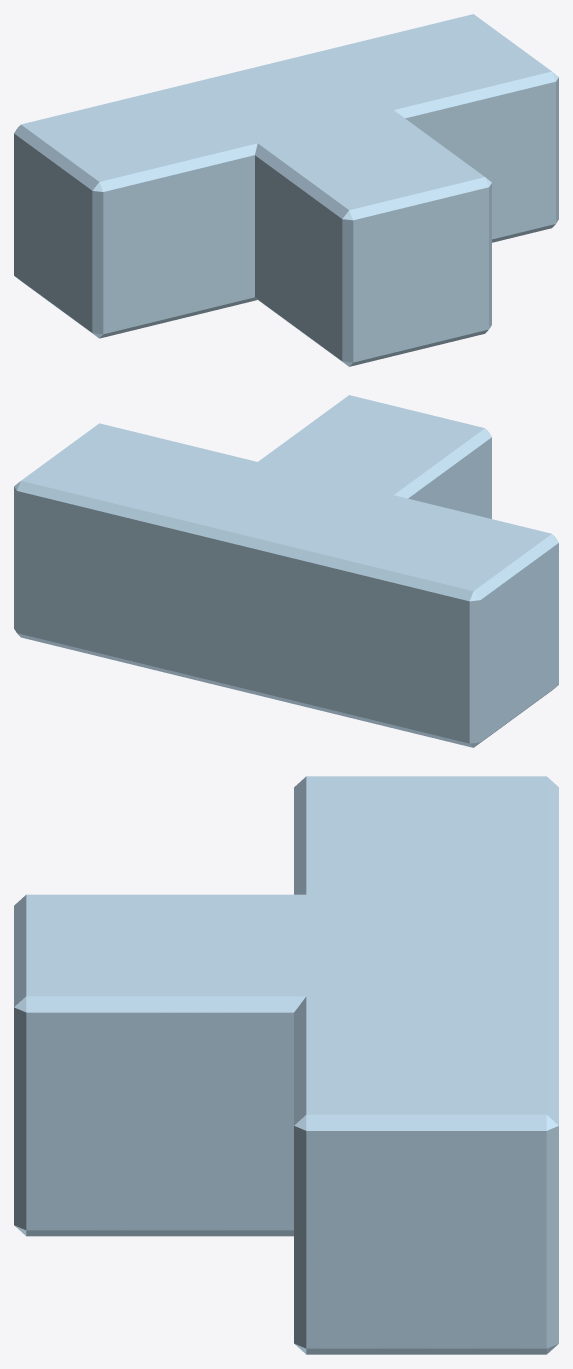
Rendered from R4B_Tee4_LOD1.glb.
3 views of the same model, one above another, from view 1: azimuth 30°, elevation 25°; view 2: azimuth 150°, elevation 25°; view 3: azimuth 270°, elevation 25° (orthographic). The views are drawn at different scales.
Visible parts, largest first — view 1: R4B_Tee4_LOD1; view 2: R4B_Tee4_LOD1; view 3: R4B_Tee4_LOD1.
Part boxes in pixels (x1,y1,x2,y2): R4B_Tee4_LOD1: (14,14,558,366); R4B_Tee4_LOD1: (14,395,558,747); R4B_Tee4_LOD1: (14,776,558,1354).
Bounding box in the file's own units: 1.62 × 0.52 × 1.07.
